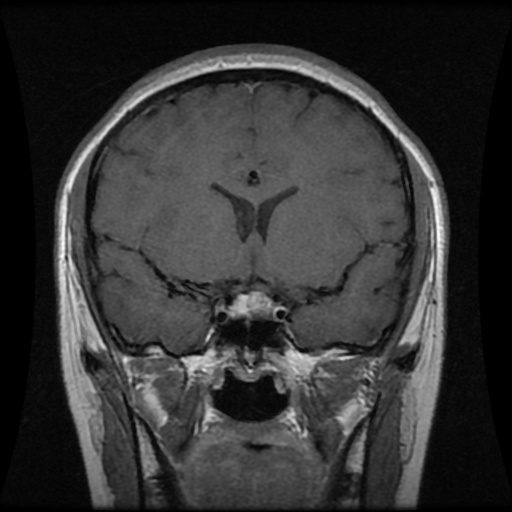pituitary: (228, 293, 274, 321)
